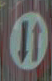Two way: (5, 4, 48, 68)
